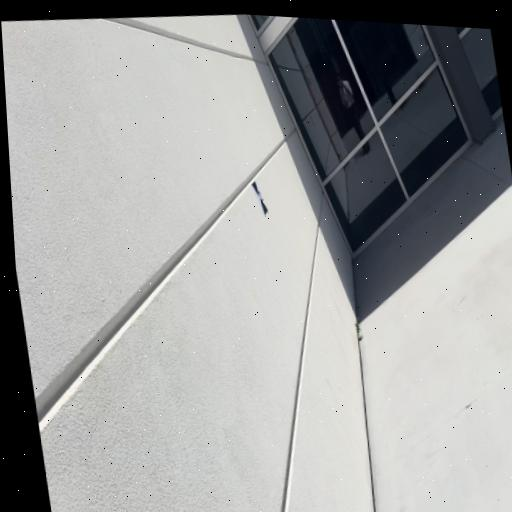target7: (251, 181, 268, 216)
